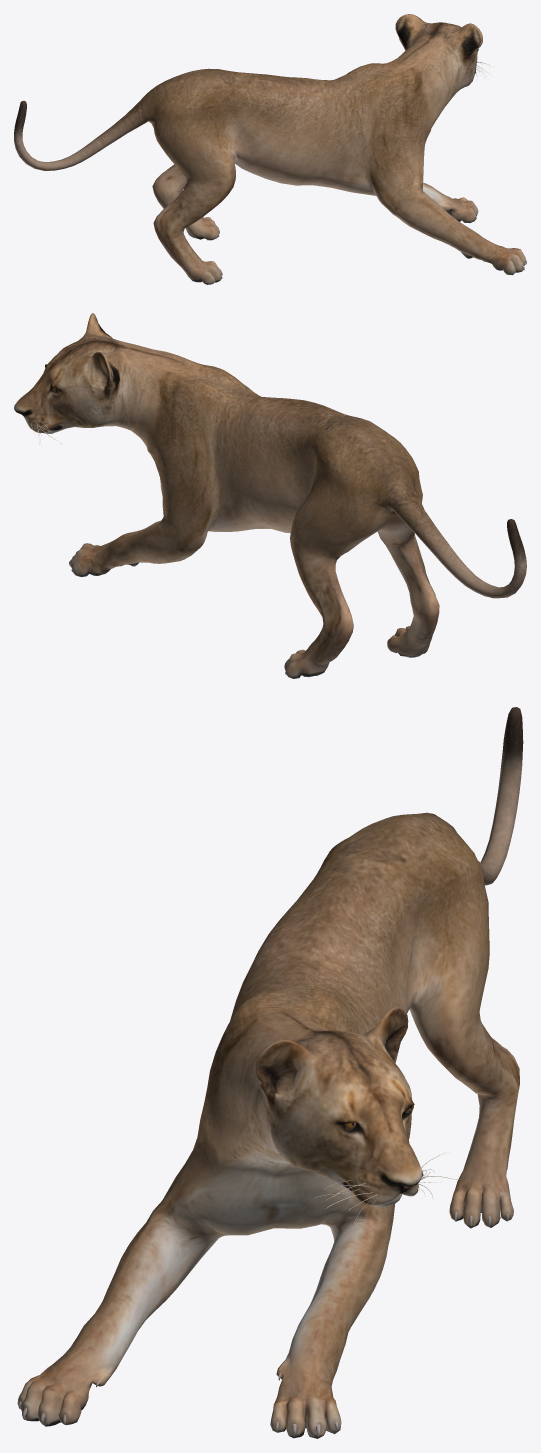
File: imported-lioness.glb
3 views of the same model, one above another, from view 1: azimuth 30°, elevation 25°; view 2: azimuth 150°, elevation 25°; view 3: azimuth 270°, elevation 25° (orthographic). The views are drawn at different scales.
Parts seen in each view (by area): view 1: Lioness.001_applied_clean_M_Lioness_0; view 2: Lioness.001_applied_clean_M_Lioness_0; view 3: Lioness.001_applied_clean_M_Lioness_0.
Part boxes in pixels (<box>): Lioness.001_applied_clean_M_Lioness_0: <box>14,14,526,284</box>; Lioness.001_applied_clean_M_Lioness_0: <box>14,313,526,678</box>; Lioness.001_applied_clean_M_Lioness_0: <box>17,707,523,1438</box>.
Bounding box in the file's own units: 2.19 × 0.95 × 1.09.
Materials: 1 (1 with a texture image).
